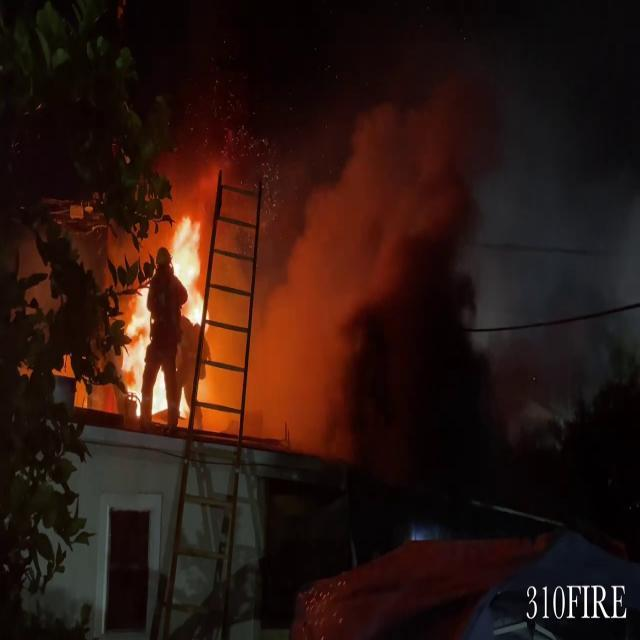Fire: (116, 200, 228, 424), (168, 207, 214, 325)
Smoke: (236, 24, 638, 453)
